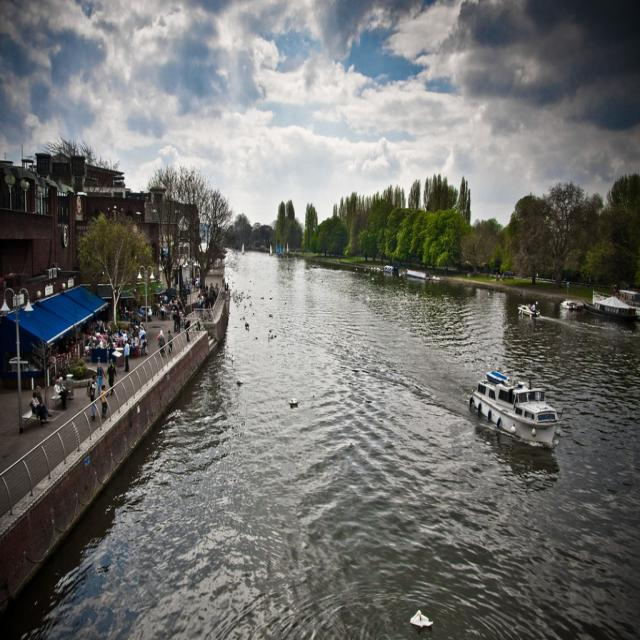Boat: (472, 365, 562, 450), (582, 293, 640, 328), (518, 304, 542, 318), (404, 268, 429, 281), (381, 265, 398, 277), (559, 300, 576, 312)
